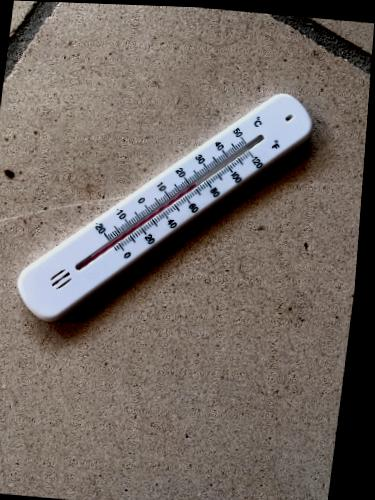thermo: (8, 86, 318, 327)
